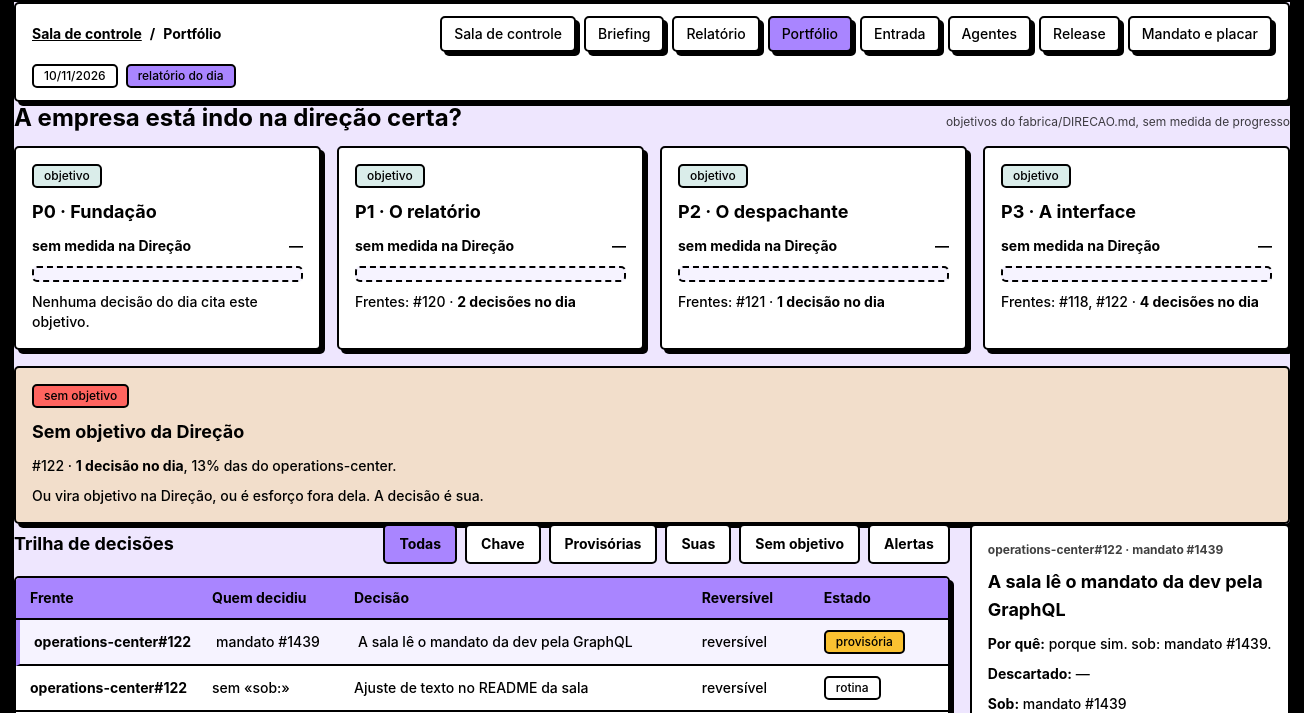
Test: Portfólio: a trilha de decisões (CA-5.3) › filtro sem linha mostra o aviso
What coordinates should you click on to do the following:
click the button "Suas"
I would click on:
 (698, 544)
Its box is [665,524,731,564].
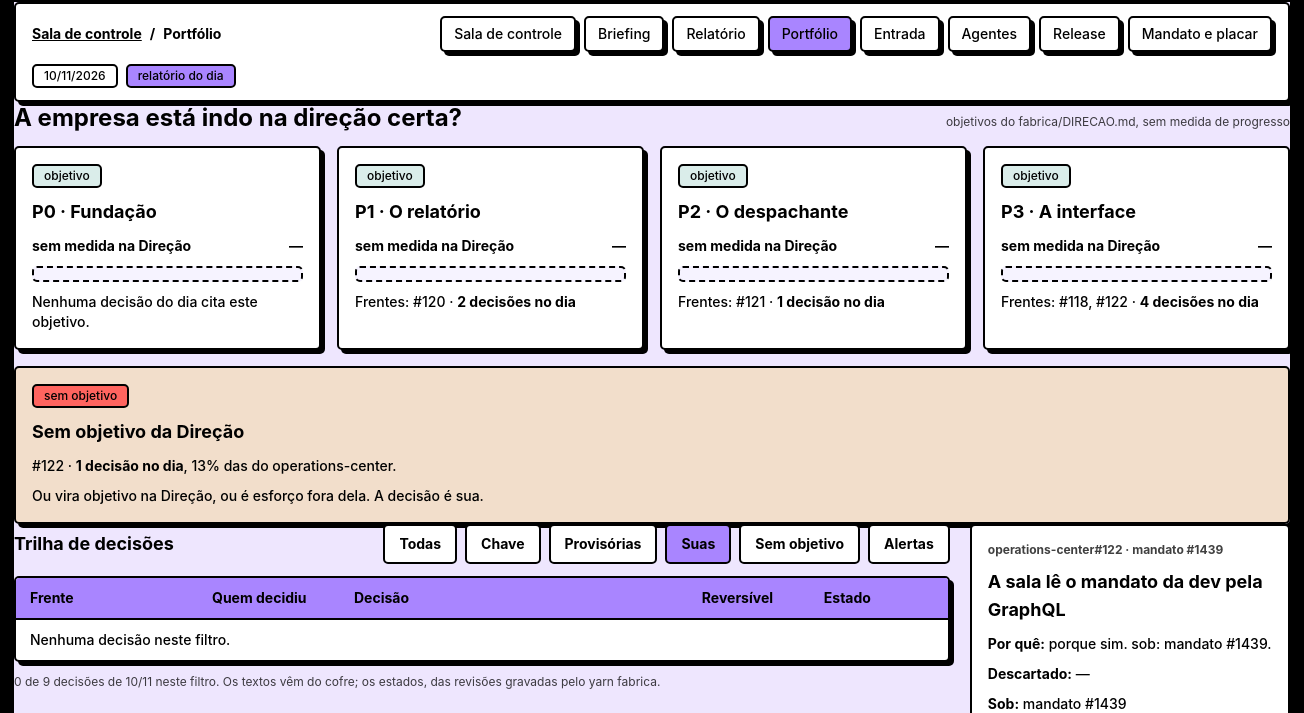
Expected: the text with test id "fabrica-decisoes-vazia" reads "Nenhuma decisão neste filtro.", [30,631,230,648]
